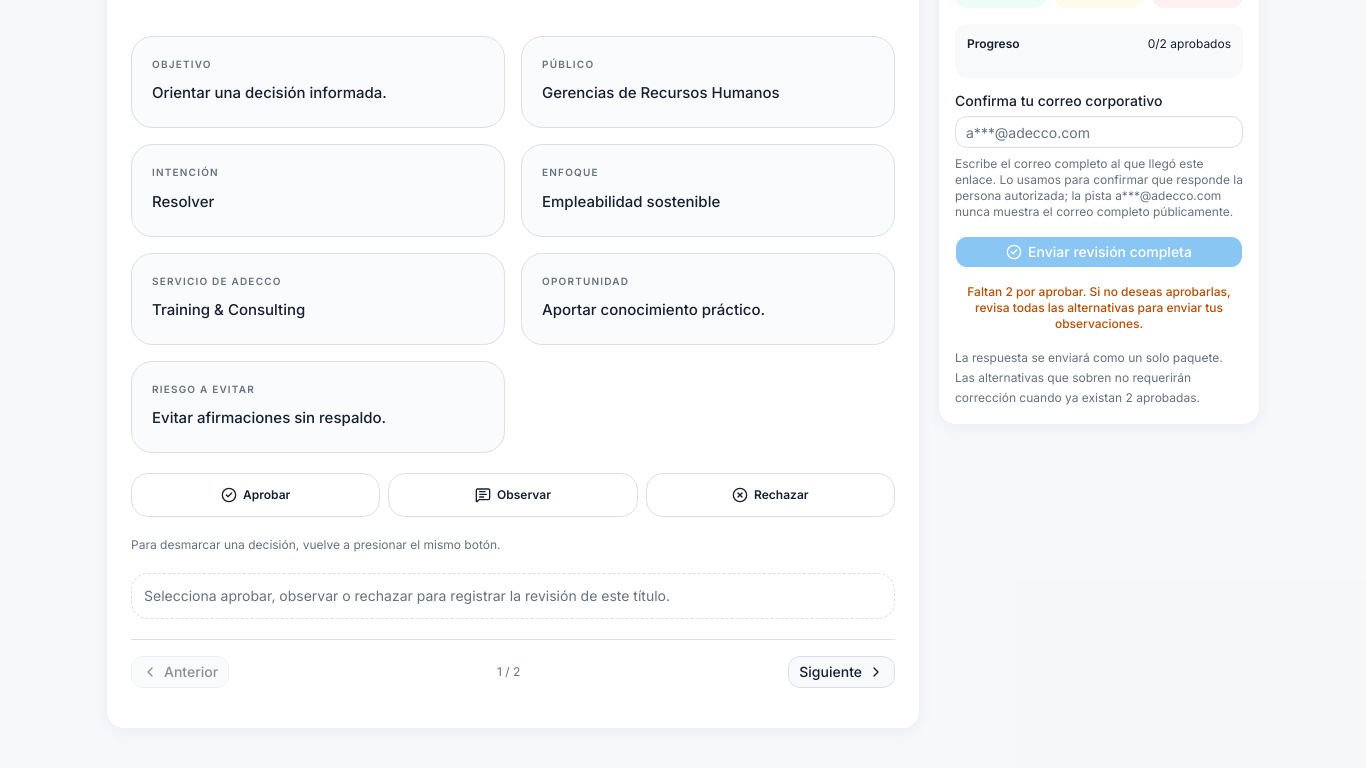
Test: TitlePackageReviewPortal › solo solicita una explicación al observar o rechazar
(page scrolled)
Click the button "Aprobar" at (256, 495), box x1=131 y1=473 x2=380 y2=517
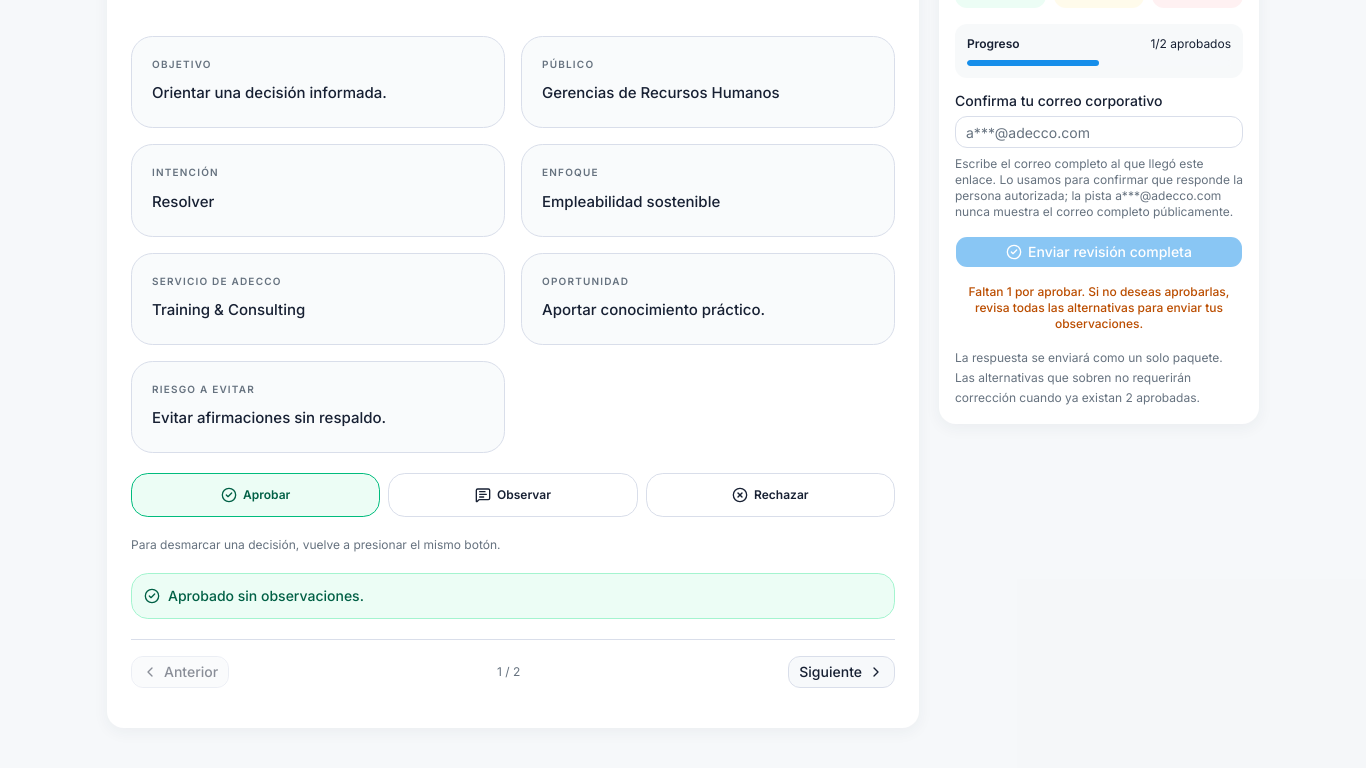
expect the text "Aprobado sin observaciones." is shown: met, box x1=131 y1=573 x2=895 y2=619
Click the button "Rechazar" at (770, 495), box x1=646 y1=473 x2=895 y2=517
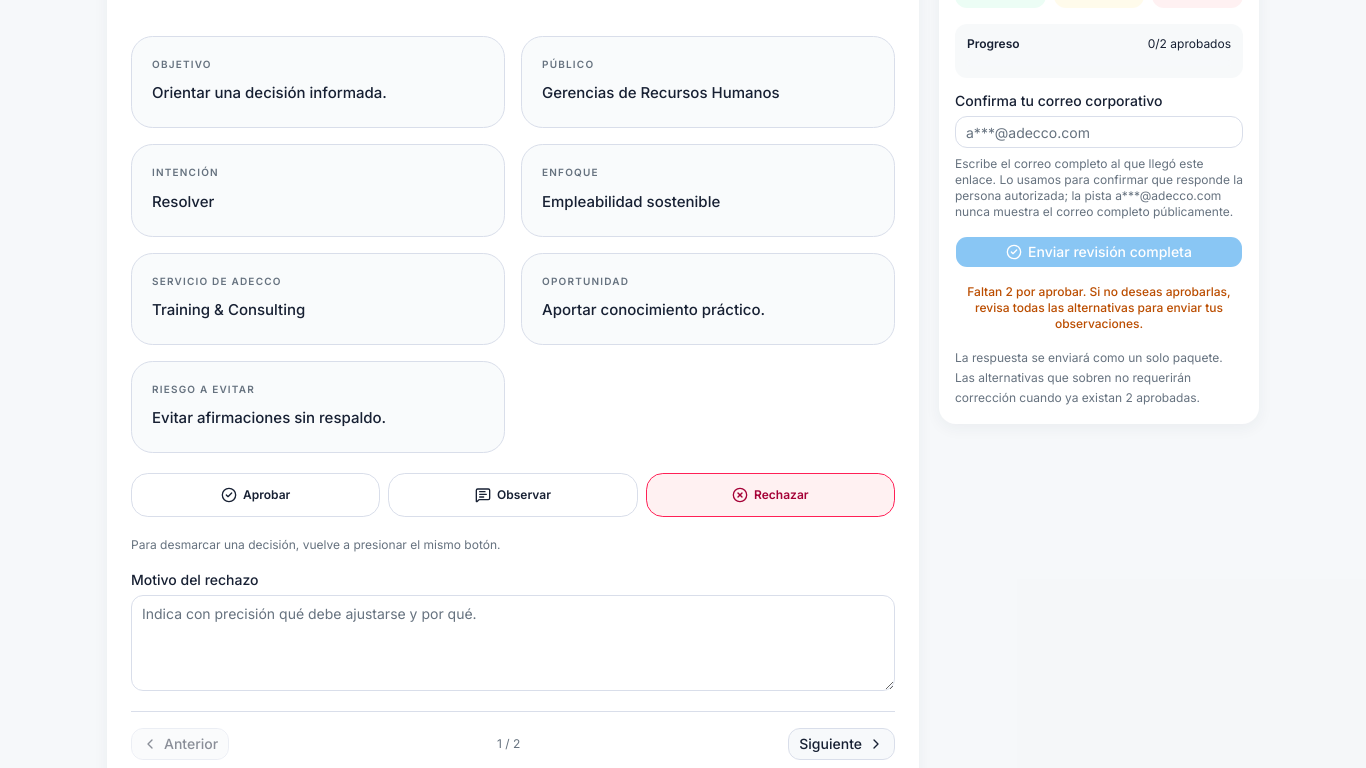
expect the text box named "Observación para título 1" is shown: met, box x1=131 y1=595 x2=895 y2=691
